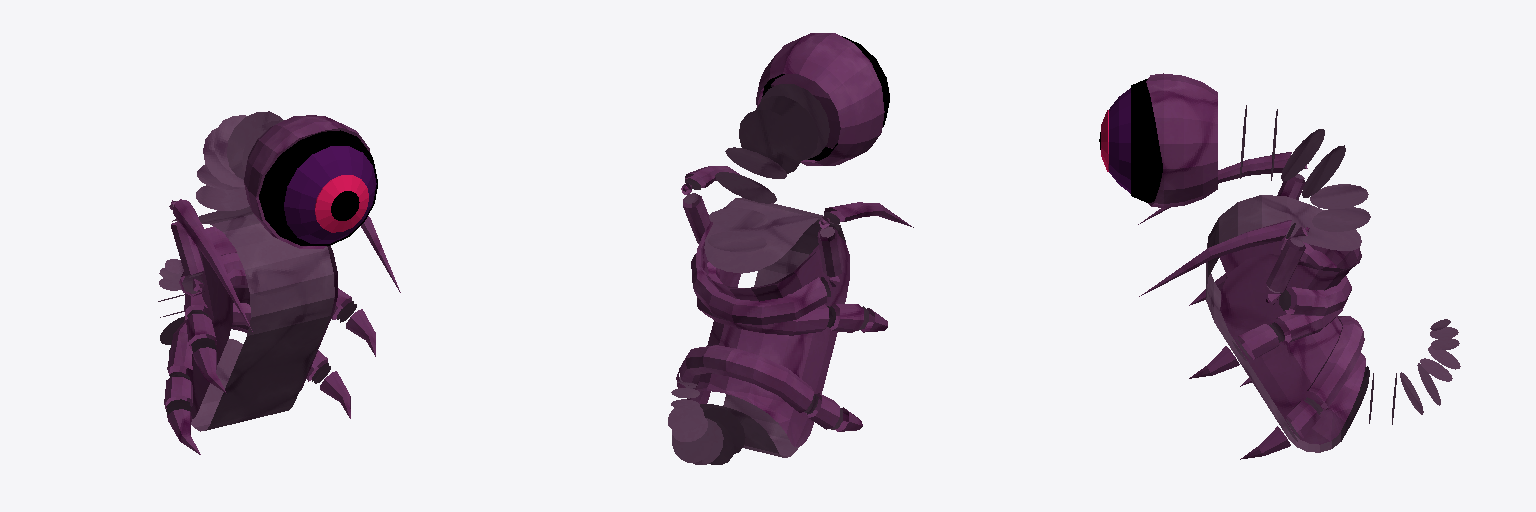
The picture shows the model from 3 angles: view 1: azimuth 30°, elevation 25°; view 2: azimuth 150°, elevation 25°; view 3: azimuth 270°, elevation 25°; orthographic projection.
Parts seen in each view (by area): view 1: CollectorsVisionMesh_Collector's_Vision; view 2: CollectorsVisionMesh_Collector's_Vision; view 3: CollectorsVisionMesh_Collector's_Vision.
Boxes of the visible parts, box(x1,y1,x2,y2) form: CollectorsVisionMesh_Collector's_Vision: box(158, 111, 400, 454); CollectorsVisionMesh_Collector's_Vision: box(668, 33, 913, 464); CollectorsVisionMesh_Collector's_Vision: box(1099, 73, 1460, 459).
Bounding box in the file's own units: 0.77 × 1.51 × 1.41.
Materials: 1 (1 with a texture image).